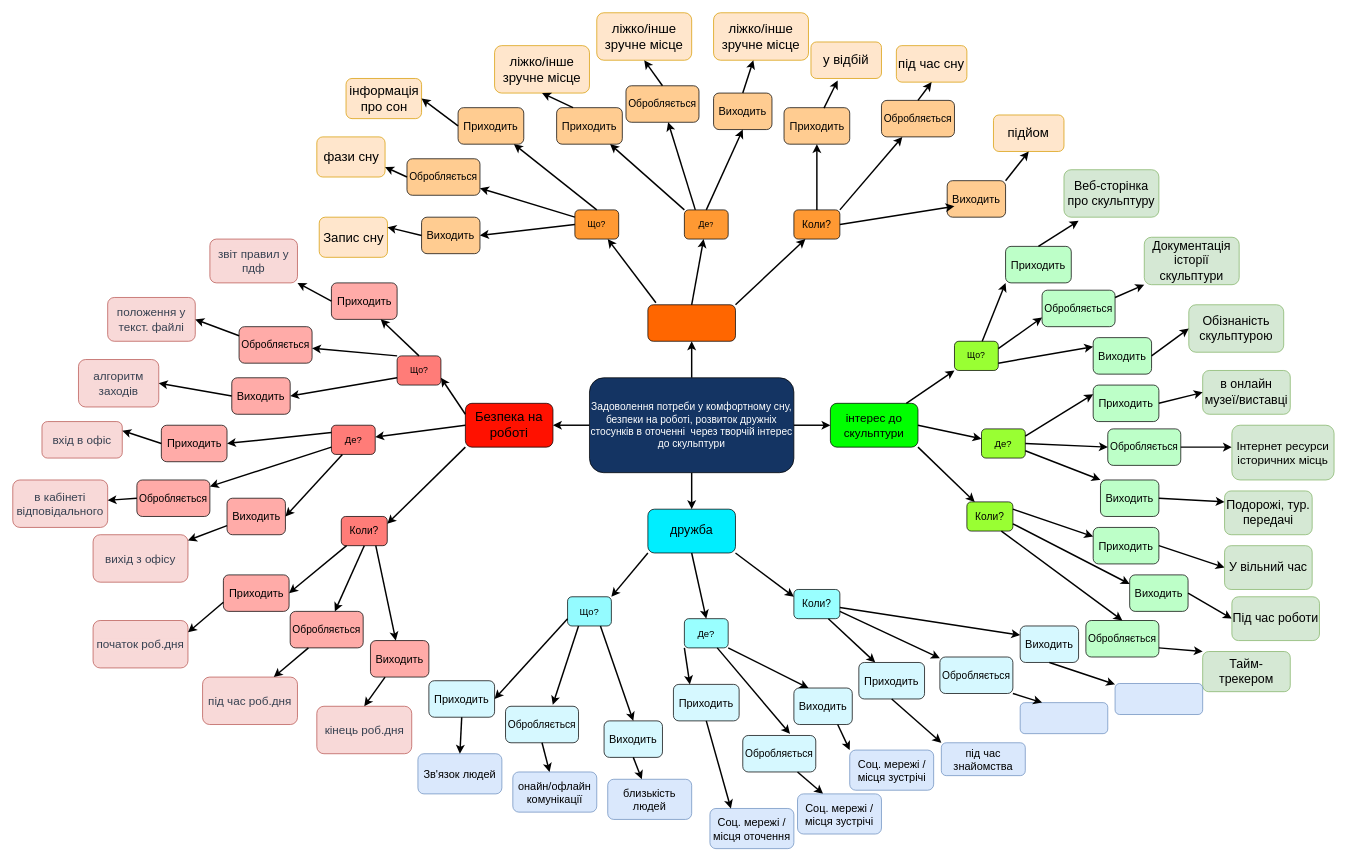
Some shapes in this 1347 by 861 pixel diagram are drawn without their labels. The shapes that lost their labels are listed below. From the top down, each one's centre as x and y in pixels, then its label:
the point at 691,322: Комфортний сон
the point at 1063,718: під час комунікацій
the point at 1158,699: після конфлікту
